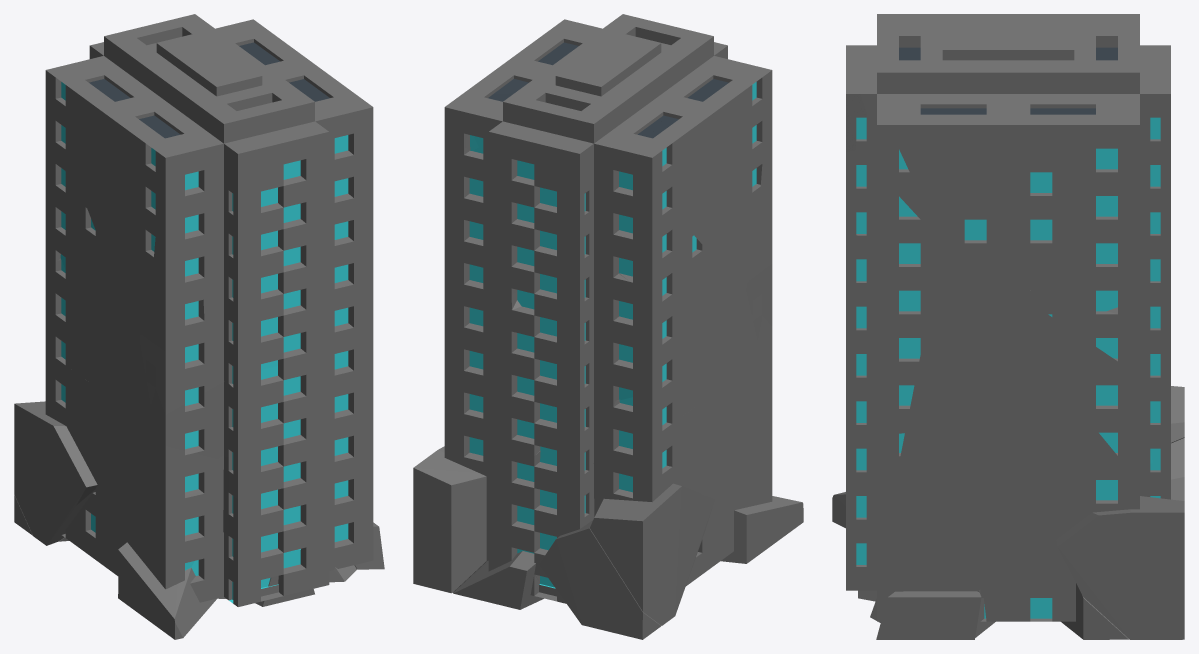
The model's file is LLShatteredCity6.fbx.
The picture shows the model from 3 angles, left to right: view 1: azimuth 30°, elevation 25°; view 2: azimuth 150°, elevation 25°; view 3: azimuth 270°, elevation 25°; orthographic projection. The views are drawn at different scales.
Visible parts, largest first — view 1: Cube.006, Cube.006_cell.019, Cube.006_cell.033, Cube.006_cell.016, Cube.006_cell.024, Cube.006_cell.020, Cube.006_cell.069, Cube.006_cell.026, Cube.006_cell.003, Cube.006_cell.006, Cube.006_cell.037, Cube.006_cell.025 (+37 smaller); view 2: Cube.006, Cube.006_cell.019, Cube.006_cell.044, Cube.006_cell.078, Cube.006_cell.033, Cube.006_cell.037, Cube.006_cell.051, Cube.006_cell.003, Cube.006_cell.060, Cube.006_cell.005, Cube.006_cell.059, Cube.006_cell.023 (+17 smaller); view 3: Cube.006, Cube.006_cell.044, Cube.006_cell.010, Cube.006_cell.031, Cube.006_cell.059, Cube.006_cell.028, Cube.006_cell.053, Cube.006_cell.030, Cube.006_cell.021, Cube.006_cell.049, Cube.006_cell.035, Cube.006_cell.095 (+10 smaller).
Part boxes in pixels (bbox=[...]): Cube.006: bbox=[45, 15, 373, 606]; Cube.006_cell.019: bbox=[14, 401, 97, 545]; Cube.006_cell.033: bbox=[45, 70, 183, 218]; Cube.006_cell.016: bbox=[148, 375, 269, 459]; Cube.006_cell.024: bbox=[204, 440, 294, 541]; Cube.006_cell.020: bbox=[265, 382, 373, 472]; Cube.006_cell.069: bbox=[194, 115, 329, 200]; Cube.006_cell.026: bbox=[165, 151, 298, 240]; Cube.006_cell.003: bbox=[118, 542, 216, 639]; Cube.006_cell.006: bbox=[196, 226, 296, 307]; Cube.006_cell.037: bbox=[45, 73, 123, 249]; Cube.006_cell.025: bbox=[191, 277, 259, 374]; Cube.006: bbox=[444, 14, 772, 603]; Cube.006_cell.019: bbox=[590, 483, 714, 625]; Cube.006_cell.044: bbox=[413, 446, 486, 593]; Cube.006_cell.078: bbox=[539, 520, 661, 639]; Cube.006_cell.033: bbox=[652, 70, 772, 191]; Cube.006_cell.037: bbox=[617, 160, 730, 261]; Cube.006_cell.051: bbox=[673, 406, 730, 495]; Cube.006_cell.003: bbox=[721, 496, 803, 563]; Cube.006_cell.060: bbox=[722, 144, 763, 283]; Cube.006_cell.005: bbox=[453, 551, 543, 609]; Cube.006_cell.059: bbox=[476, 54, 628, 144]; Cube.006_cell.023: bbox=[718, 444, 772, 509]; Cube.006: bbox=[846, 14, 1170, 621]; Cube.006_cell.044: bbox=[1056, 496, 1184, 639]; Cube.006_cell.010: bbox=[887, 234, 1039, 399]; Cube.006_cell.031: bbox=[1010, 216, 1139, 335]; Cube.006_cell.059: bbox=[997, 23, 1134, 112]; Cube.006_cell.028: bbox=[876, 591, 981, 639]; Cube.006_cell.053: bbox=[1081, 333, 1170, 419]; Cube.006_cell.030: bbox=[1123, 18, 1170, 152]; Cube.006_cell.021: bbox=[956, 104, 1088, 209]; Cube.006_cell.049: bbox=[1085, 167, 1139, 273]; Cube.006_cell.035: bbox=[846, 458, 876, 550]; Cube.006_cell.095: bbox=[846, 147, 876, 238].
Bounding box in the file's own units: 106 × 218 × 129.
